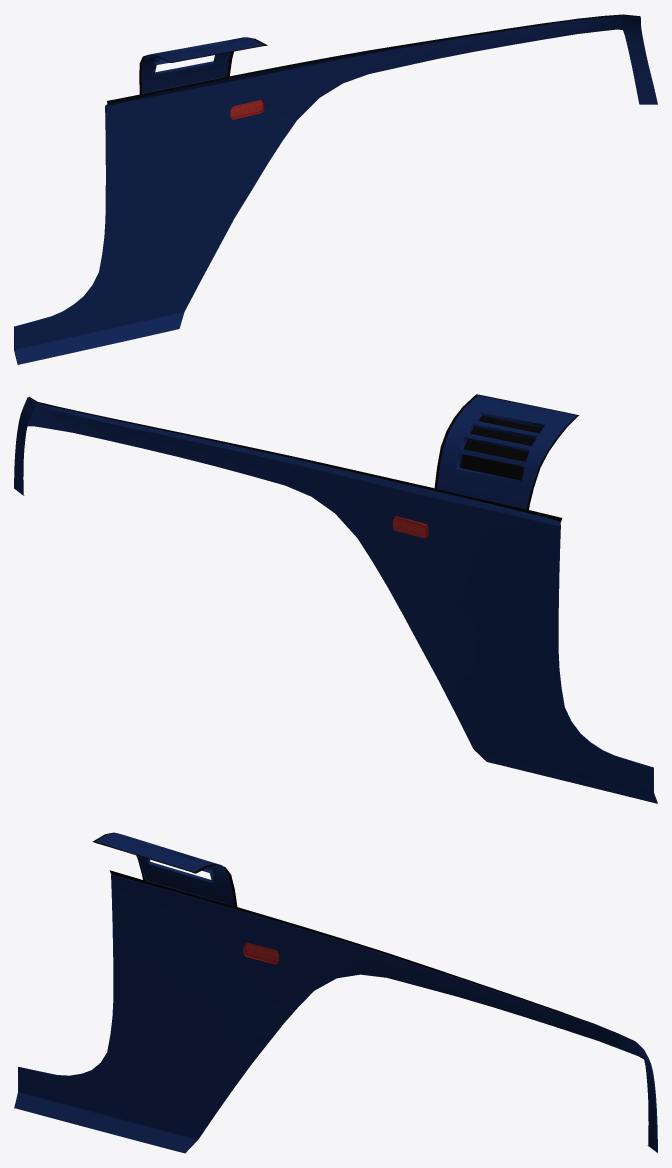
3 views of the same model, one above another, from view 1: azimuth 30°, elevation 25°; view 2: azimuth 150°, elevation 25°; view 3: azimuth 330°, elevation 25° (orthographic). The views are drawn at different scales.
Visible parts, largest first — view 1: J715_8A_121B_L_1_DaS_J715_8A_121B_L, J715_8A_121B_L_J715_8A_121B_L_3_D, J715_8A_121B_L_1_DaS_J715_8A_121B_L_E; view 2: J715_8A_121B_L_1_DaS_J715_8A_121B_L, J715_8A_121B_L_J715_8A_121B_L_3_D, J715_8A_121B_L_1_DaS_J715_8A_121B_L_E; view 3: J715_8A_121B_L_1_DaS_J715_8A_121B_L, J715_8A_121B_L_J715_8A_121B_L_3_D, J715_8A_121B_L_1_DaS_J715_8A_121B_L_E, J715_8A_121B_L_J715_8A_121B_L_2_N.
Part boxes in pixels (left/top/right/bottom): J715_8A_121B_L_1_DaS_J715_8A_121B_L: left=14, top=15, right=657, bottom=364; J715_8A_121B_L_J715_8A_121B_L_3_D: left=107, top=14, right=639, bottom=104; J715_8A_121B_L_1_DaS_J715_8A_121B_L_E: left=14, top=16, right=657, bottom=364; J715_8A_121B_L_1_DaS_J715_8A_121B_L: left=14, top=395, right=656, bottom=803; J715_8A_121B_L_J715_8A_121B_L_3_D: left=28, top=394, right=578, bottom=522; J715_8A_121B_L_1_DaS_J715_8A_121B_L_E: left=23, top=397, right=657, bottom=803; J715_8A_121B_L_1_DaS_J715_8A_121B_L: left=15, top=833, right=656, bottom=1153; J715_8A_121B_L_J715_8A_121B_L_3_D: left=92, top=832, right=642, bottom=1049; J715_8A_121B_L_1_DaS_J715_8A_121B_L_E: left=14, top=838, right=657, bottom=1152; J715_8A_121B_L_J715_8A_121B_L_2_N: left=243, top=942, right=278, bottom=964.
Bounding box in the file's own units: 175 × 82.82 × 22.08.
